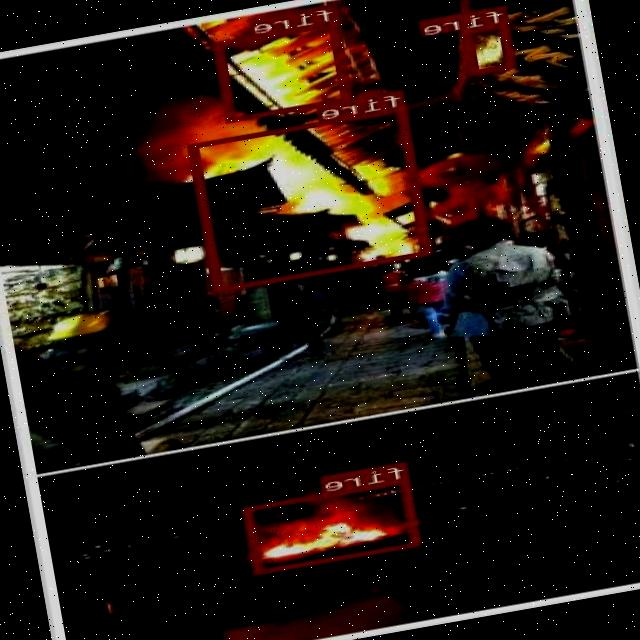fire: (189, 105, 434, 292), (245, 477, 422, 572), (214, 20, 354, 121), (463, 20, 518, 74)
